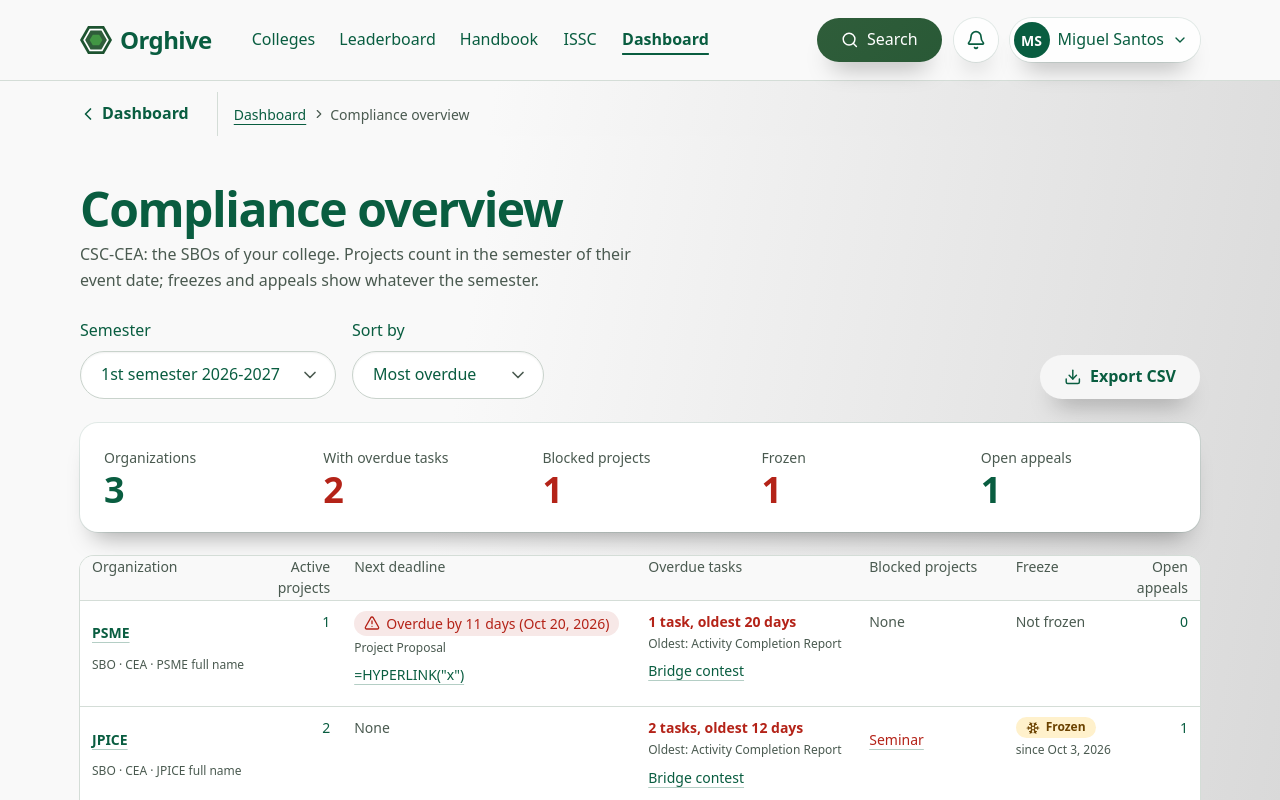
Test: /dashboard/compliance › asks again for another semester, and sorts by name
Select "2nd semester 2025-2026" in the dropdown labelled "Semester" at (208, 375), box 80,351 -> 336,399
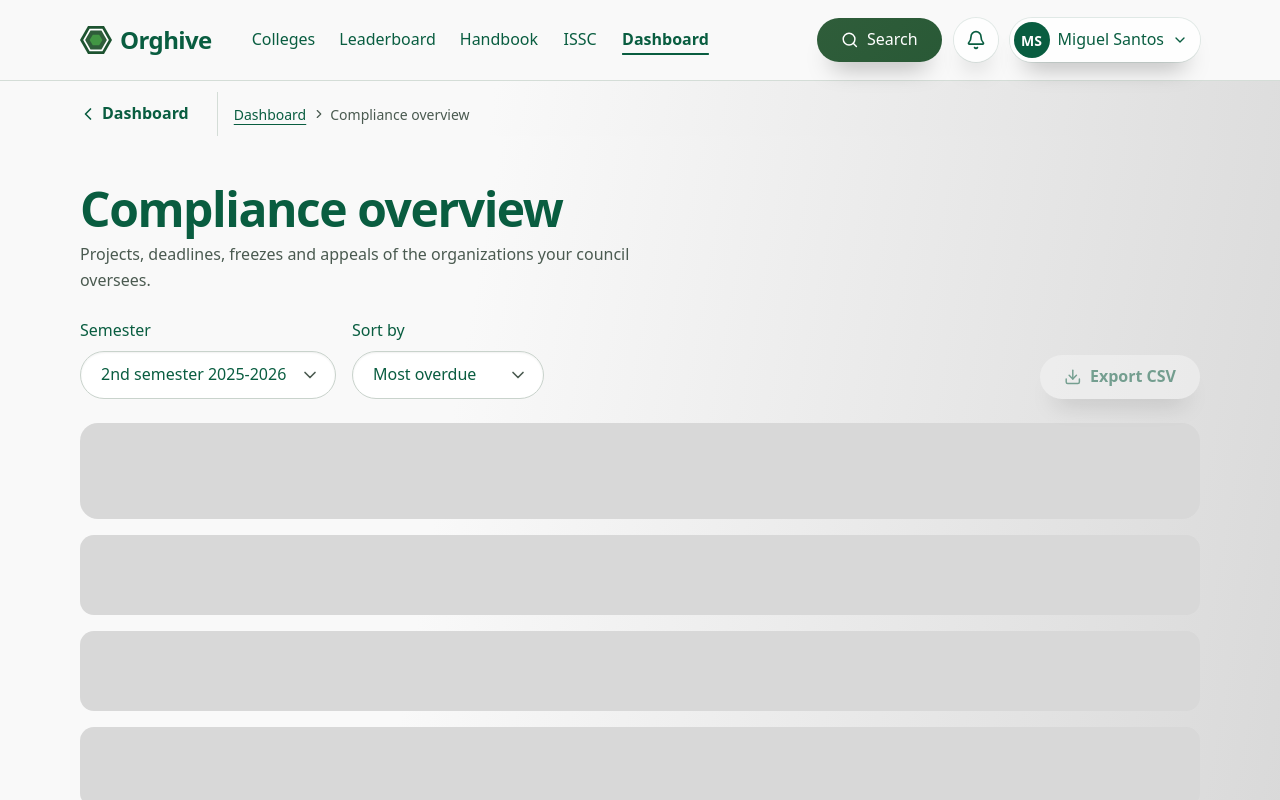
Select "Name" in the dropdown labelled "Sort by" at (448, 375), box 352,351 -> 544,399
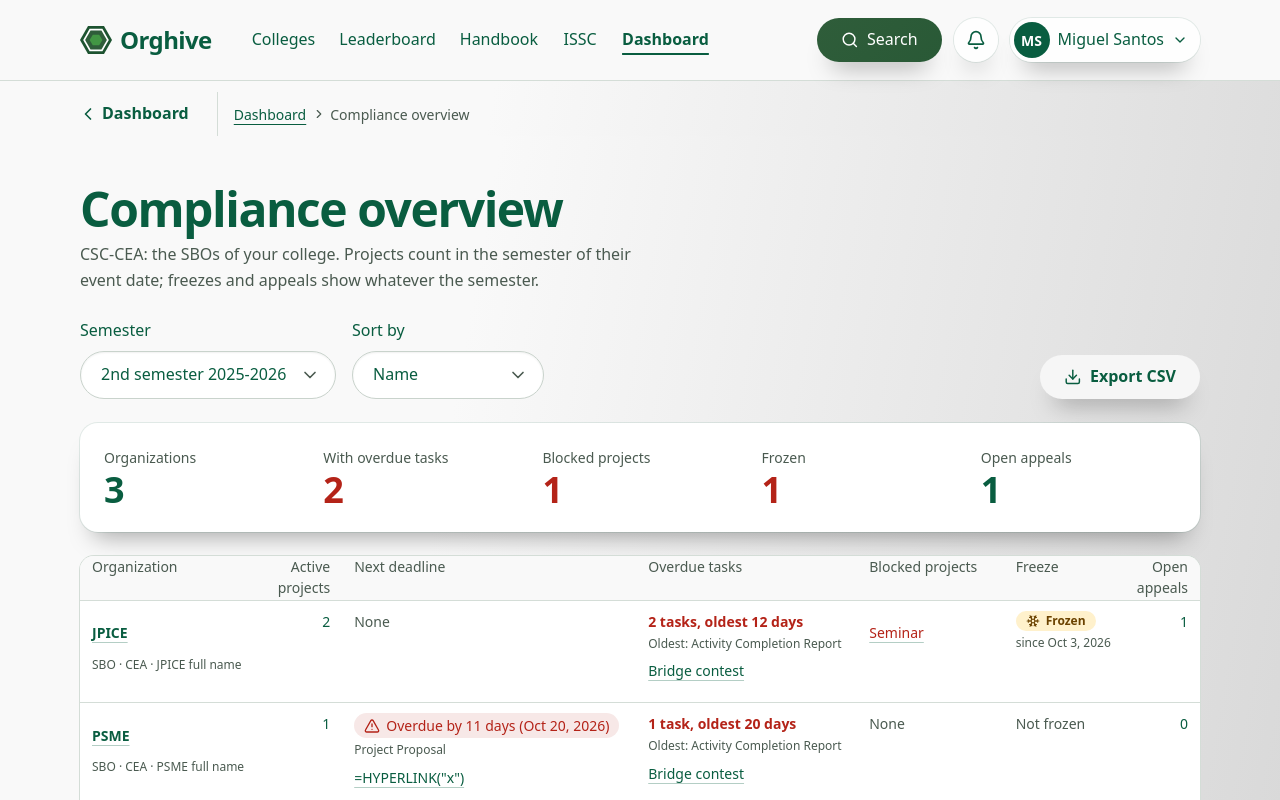
Result: the link "JPICE" is shown at 92,623 -> 128,642
